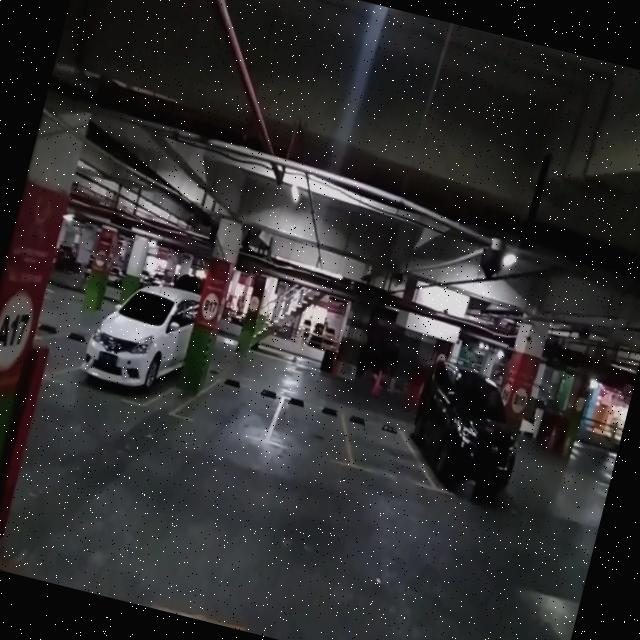empty: (180, 365, 282, 446), (264, 389, 358, 468), (339, 408, 428, 484)
occupied: (400, 382, 535, 511), (73, 282, 196, 415)
